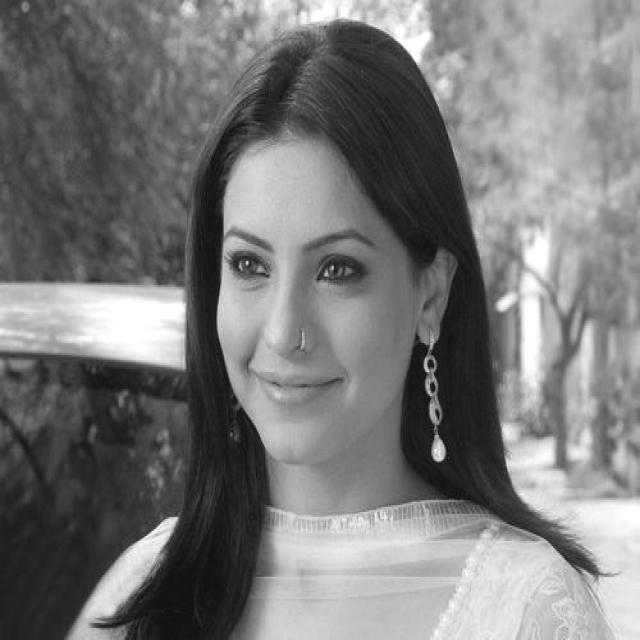real: (200, 136, 460, 464)
